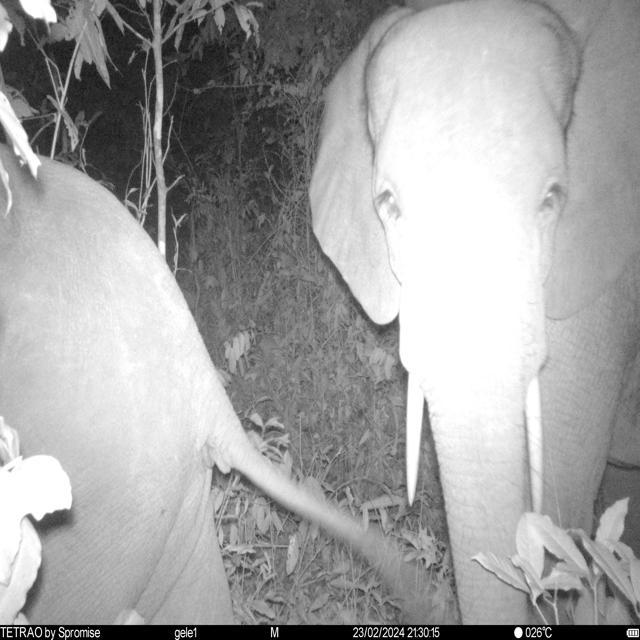ear: (307, 7, 424, 328), (544, 1, 640, 324)
elephant: (0, 144, 450, 626), (307, 1, 640, 626)
tusk: (404, 372, 428, 514), (524, 372, 546, 518)
